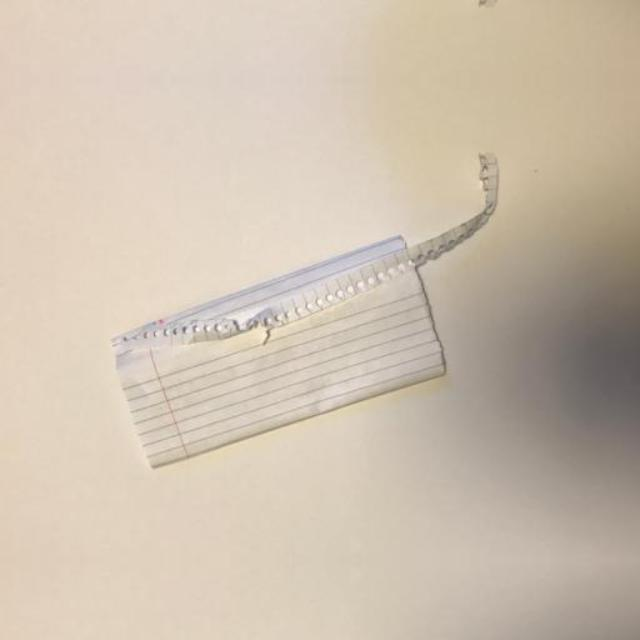paper: (80, 143, 520, 465), (80, 0, 520, 16)
